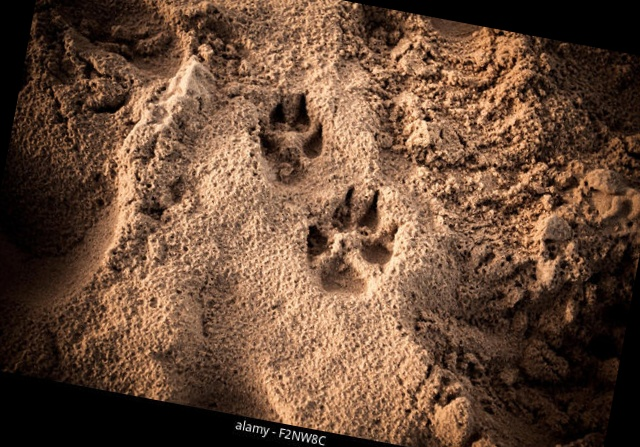fox: (280, 170, 420, 324), (216, 70, 339, 196)
